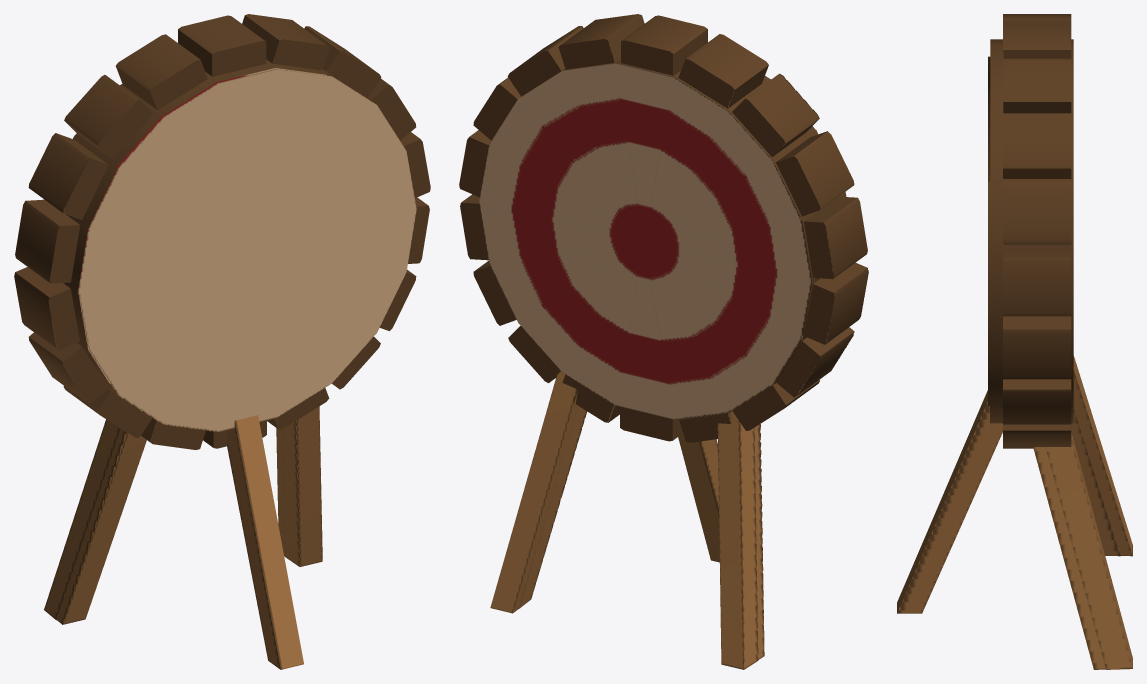
File: M_SpareTarget_02.FBX
3 views of the same model, side by side, from view 1: azimuth 30°, elevation 25°; view 2: azimuth 150°, elevation 25°; view 3: azimuth 270°, elevation 25° (orthographic).
Parts seen in each view (by area): view 1: Cylinder003; view 2: Cylinder003; view 3: Cylinder003.
Boxes of the visible parts, <box> form: Cylinder003: <box>14,14,430,669</box>; Cylinder003: <box>459,14,868,669</box>; Cylinder003: <box>897,14,1132,669</box>.
Bounding box in the file's own units: 0.706 × 1.03 × 0.383.
